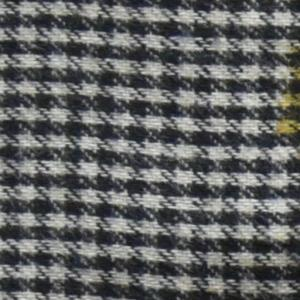Stain: (276, 41, 300, 152)
